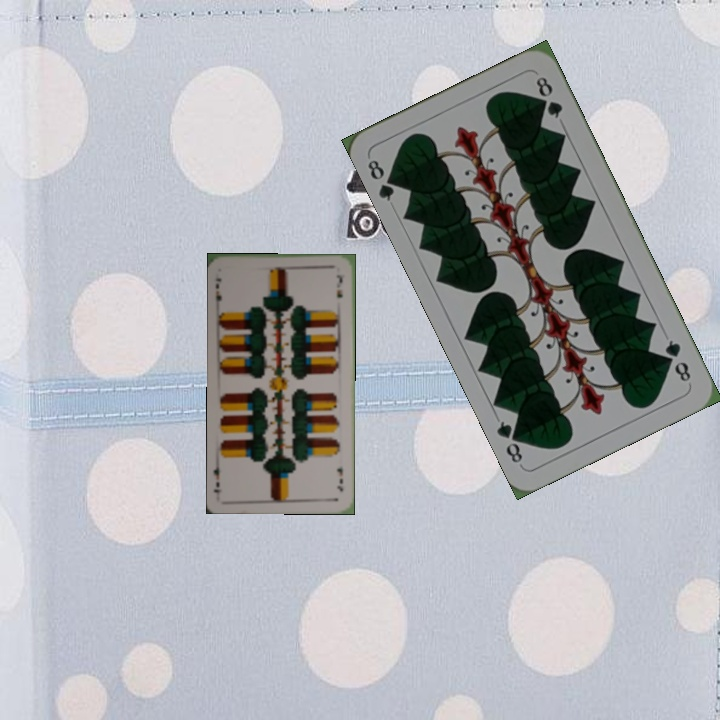E7: (211, 275, 224, 309), (333, 464, 346, 494)
G8: (363, 155, 402, 204), (661, 335, 694, 385)
